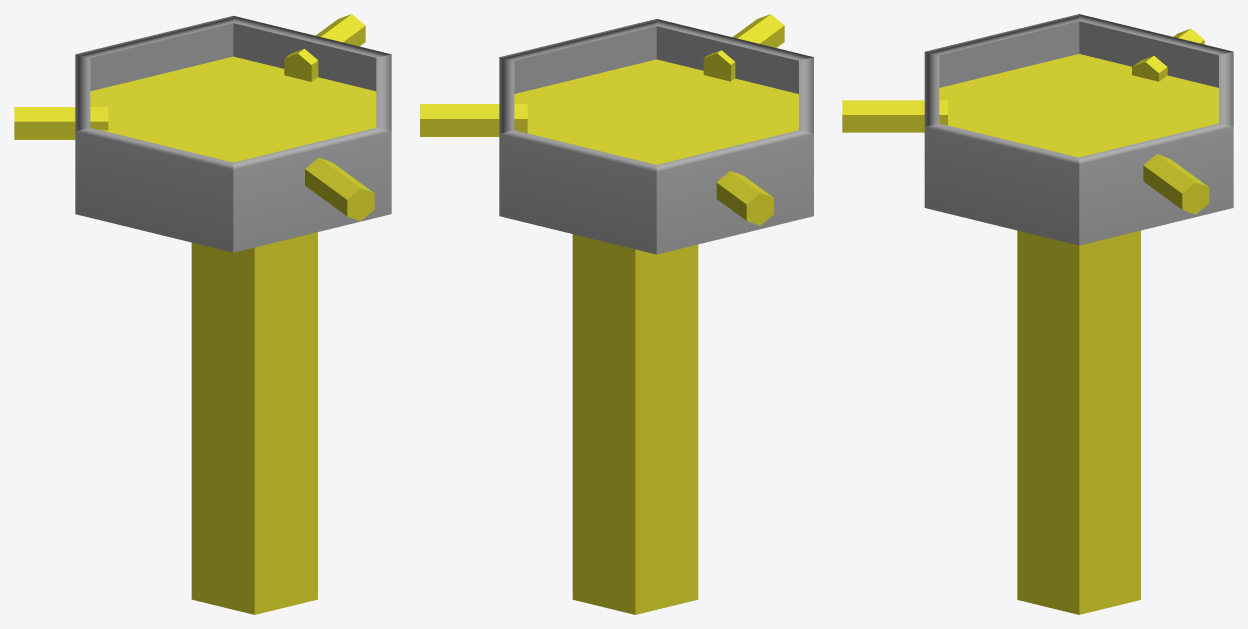
The model's file is PoolYellow.fbx.
3 views of the same model, side by side, from view 1: azimuth 30°, elevation 25°; view 2: azimuth 150°, elevation 25°; view 3: azimuth 270°, elevation 25° (orthographic). The views are drawn at different scales.
Parts seen in each view (by area): view 1: yellowStand, Pool3Yellow, PoolYellowWater, YellowtoGreenPipe, YellowOutPipe, YellowtoOrangePipe; view 2: yellowStand, Pool3Yellow, PoolYellowWater, YellowtoOrangePipe, YellowOutPipe, YellowtoGreenPipe; view 3: yellowStand, Pool3Yellow, PoolYellowWater, YellowtoGreenPipe, YellowtoOrangePipe, YellowOutPipe.
Boxes of the visible parts, x1,y1,x2,y2 form: yellowStand: [191, 232, 317, 614]; Pool3Yellow: [75, 15, 391, 252]; PoolYellowWater: [90, 56, 376, 162]; YellowtoGreenPipe: [305, 157, 374, 221]; YellowOutPipe: [14, 107, 108, 139]; YellowtoOrangePipe: [284, 14, 365, 81]; yellowStand: [572, 234, 698, 614]; Pool3Yellow: [499, 19, 813, 254]; PoolYellowWater: [514, 59, 798, 164]; YellowtoOrangePipe: [420, 104, 527, 136]; YellowOutPipe: [716, 171, 773, 225]; YellowtoGreenPipe: [703, 14, 784, 81]; yellowStand: [1017, 230, 1140, 614]; Pool3Yellow: [924, 14, 1233, 245]; PoolYellowWater: [939, 54, 1218, 157]; YellowtoGreenPipe: [842, 100, 947, 132]; YellowtoOrangePipe: [1143, 154, 1209, 214]; YellowOutPipe: [1132, 28, 1204, 81].
Size of the model in its own units: 0.0447 by 0.06 by 0.0439.
